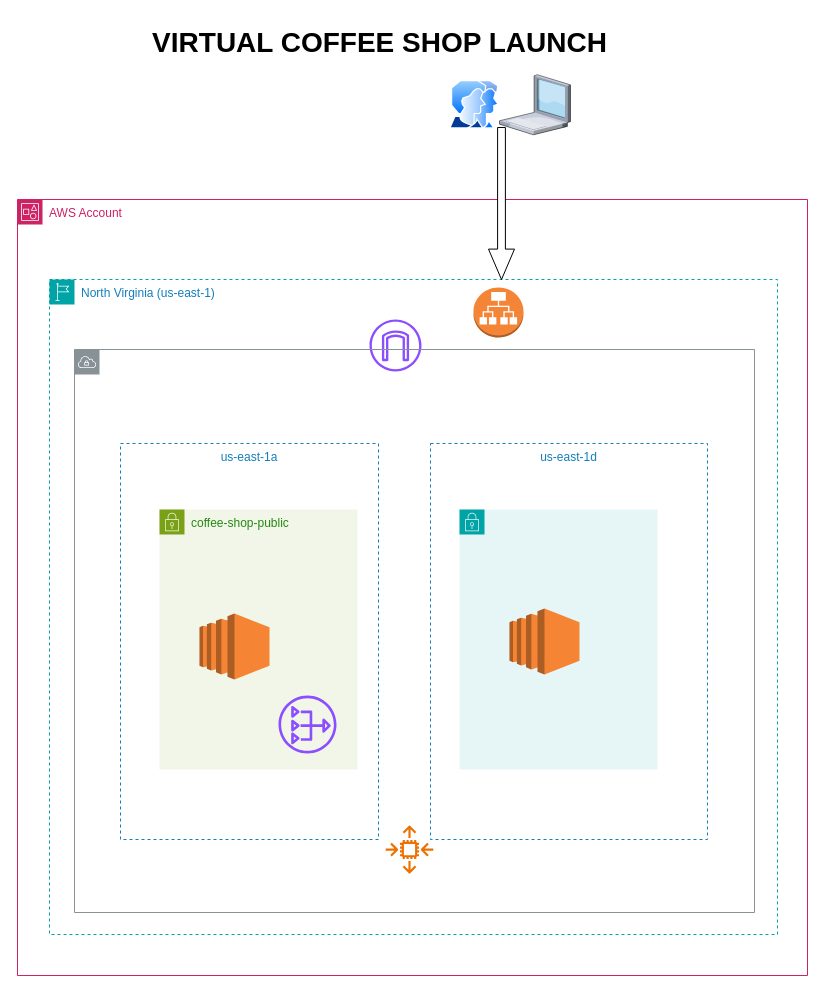
The diagram is 825 pixels wide and 993 high, and some of its shapes have lost their labels. Each missing label, with the box of its shape:
coffee-shop-private: (458, 508, 658, 770)
coffee-shop-vpc: (74, 348, 754, 912)
